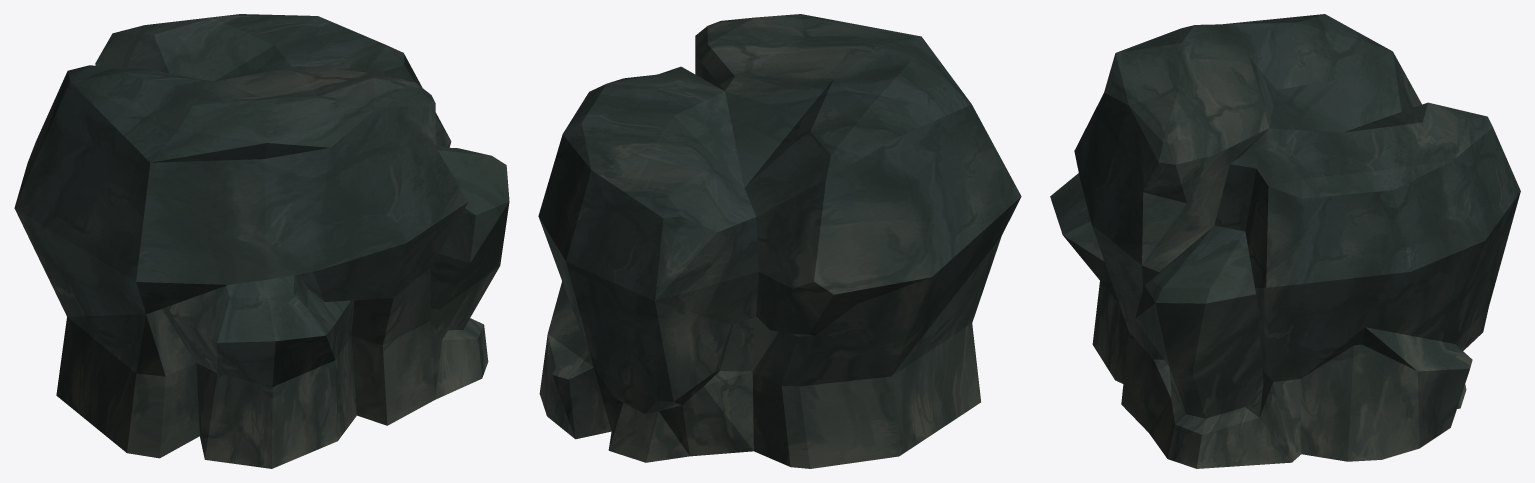
The model's file is ETC0610074.fbx.
The picture shows the model from 3 angles, left to right: view 1: azimuth 30°, elevation 25°; view 2: azimuth 150°, elevation 25°; view 3: azimuth 270°, elevation 25°; orthographic projection. The views are drawn at different scales.
Visible parts, largest first — view 1: smETC0610074; view 2: smETC0610074; view 3: smETC0610074.
Part boxes in pixels (x1,y1,x2,y2): smETC0610074: (14,14,509,468); smETC0610074: (538,14,1021,468); smETC0610074: (1050,14,1520,468).
Bounding box in the file's own units: 263 × 199 × 273.
Materials: 1 (1 with a texture image).
